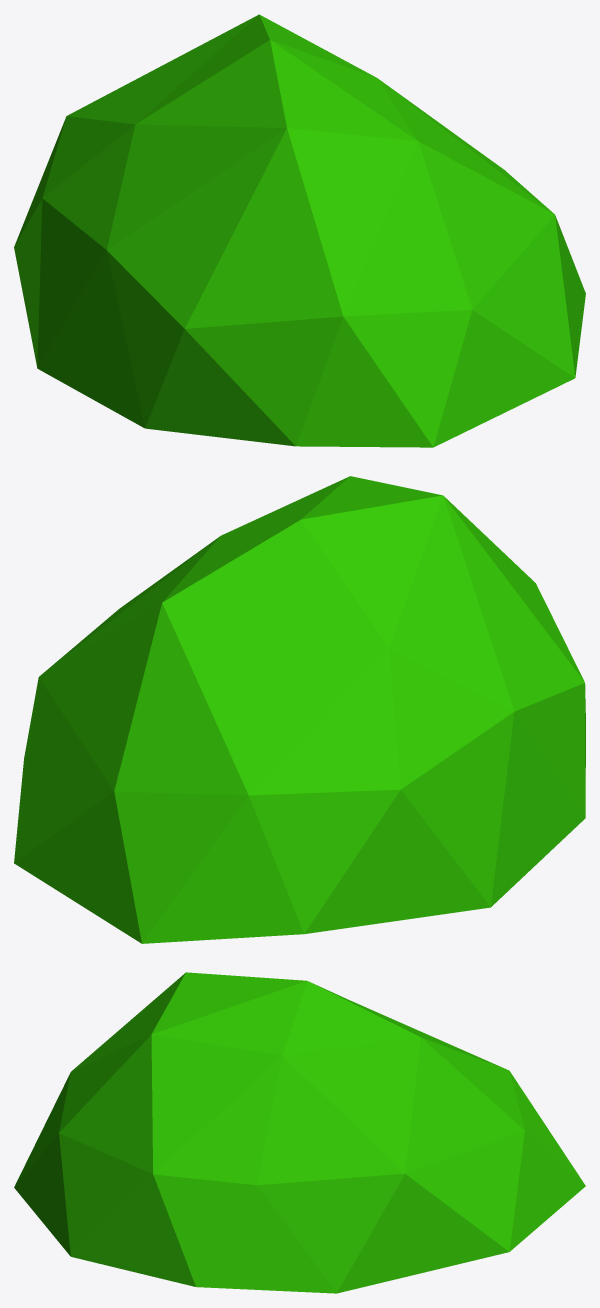
File: Bush1.fbx
3 views of the same model, one above another, from view 1: azimuth 30°, elevation 25°; view 2: azimuth 150°, elevation 25°; view 3: azimuth 270°, elevation 25° (orthographic). The views are drawn at different scales.
Parts seen in each view (by area): view 1: Icosphere; view 2: Icosphere; view 3: Icosphere.
Boxes of the visible parts, x1,y1,x2,y2 form: Icosphere: [14, 14, 585, 447]; Icosphere: [14, 476, 585, 943]; Icosphere: [14, 972, 585, 1293].
Bounding box in the file's own units: 210 × 132 × 288.
